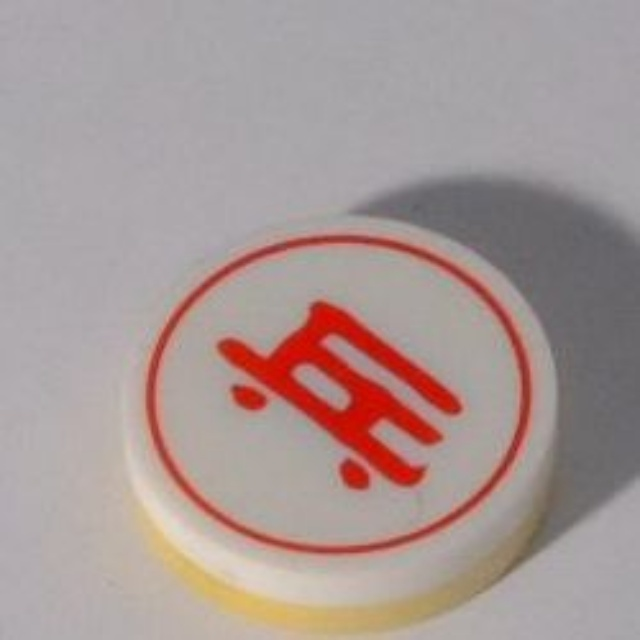red_chot: (107, 208, 591, 623)
